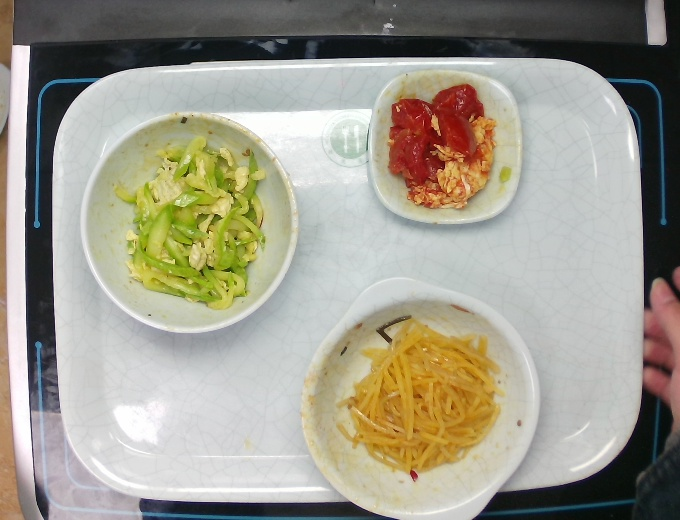JYsf-Fan_Wan: (82, 111, 302, 335)
JYsf-Shuang_Er_Wan: (295, 275, 546, 520)
JYsf-Si_Fang_Die: (364, 64, 524, 229)
